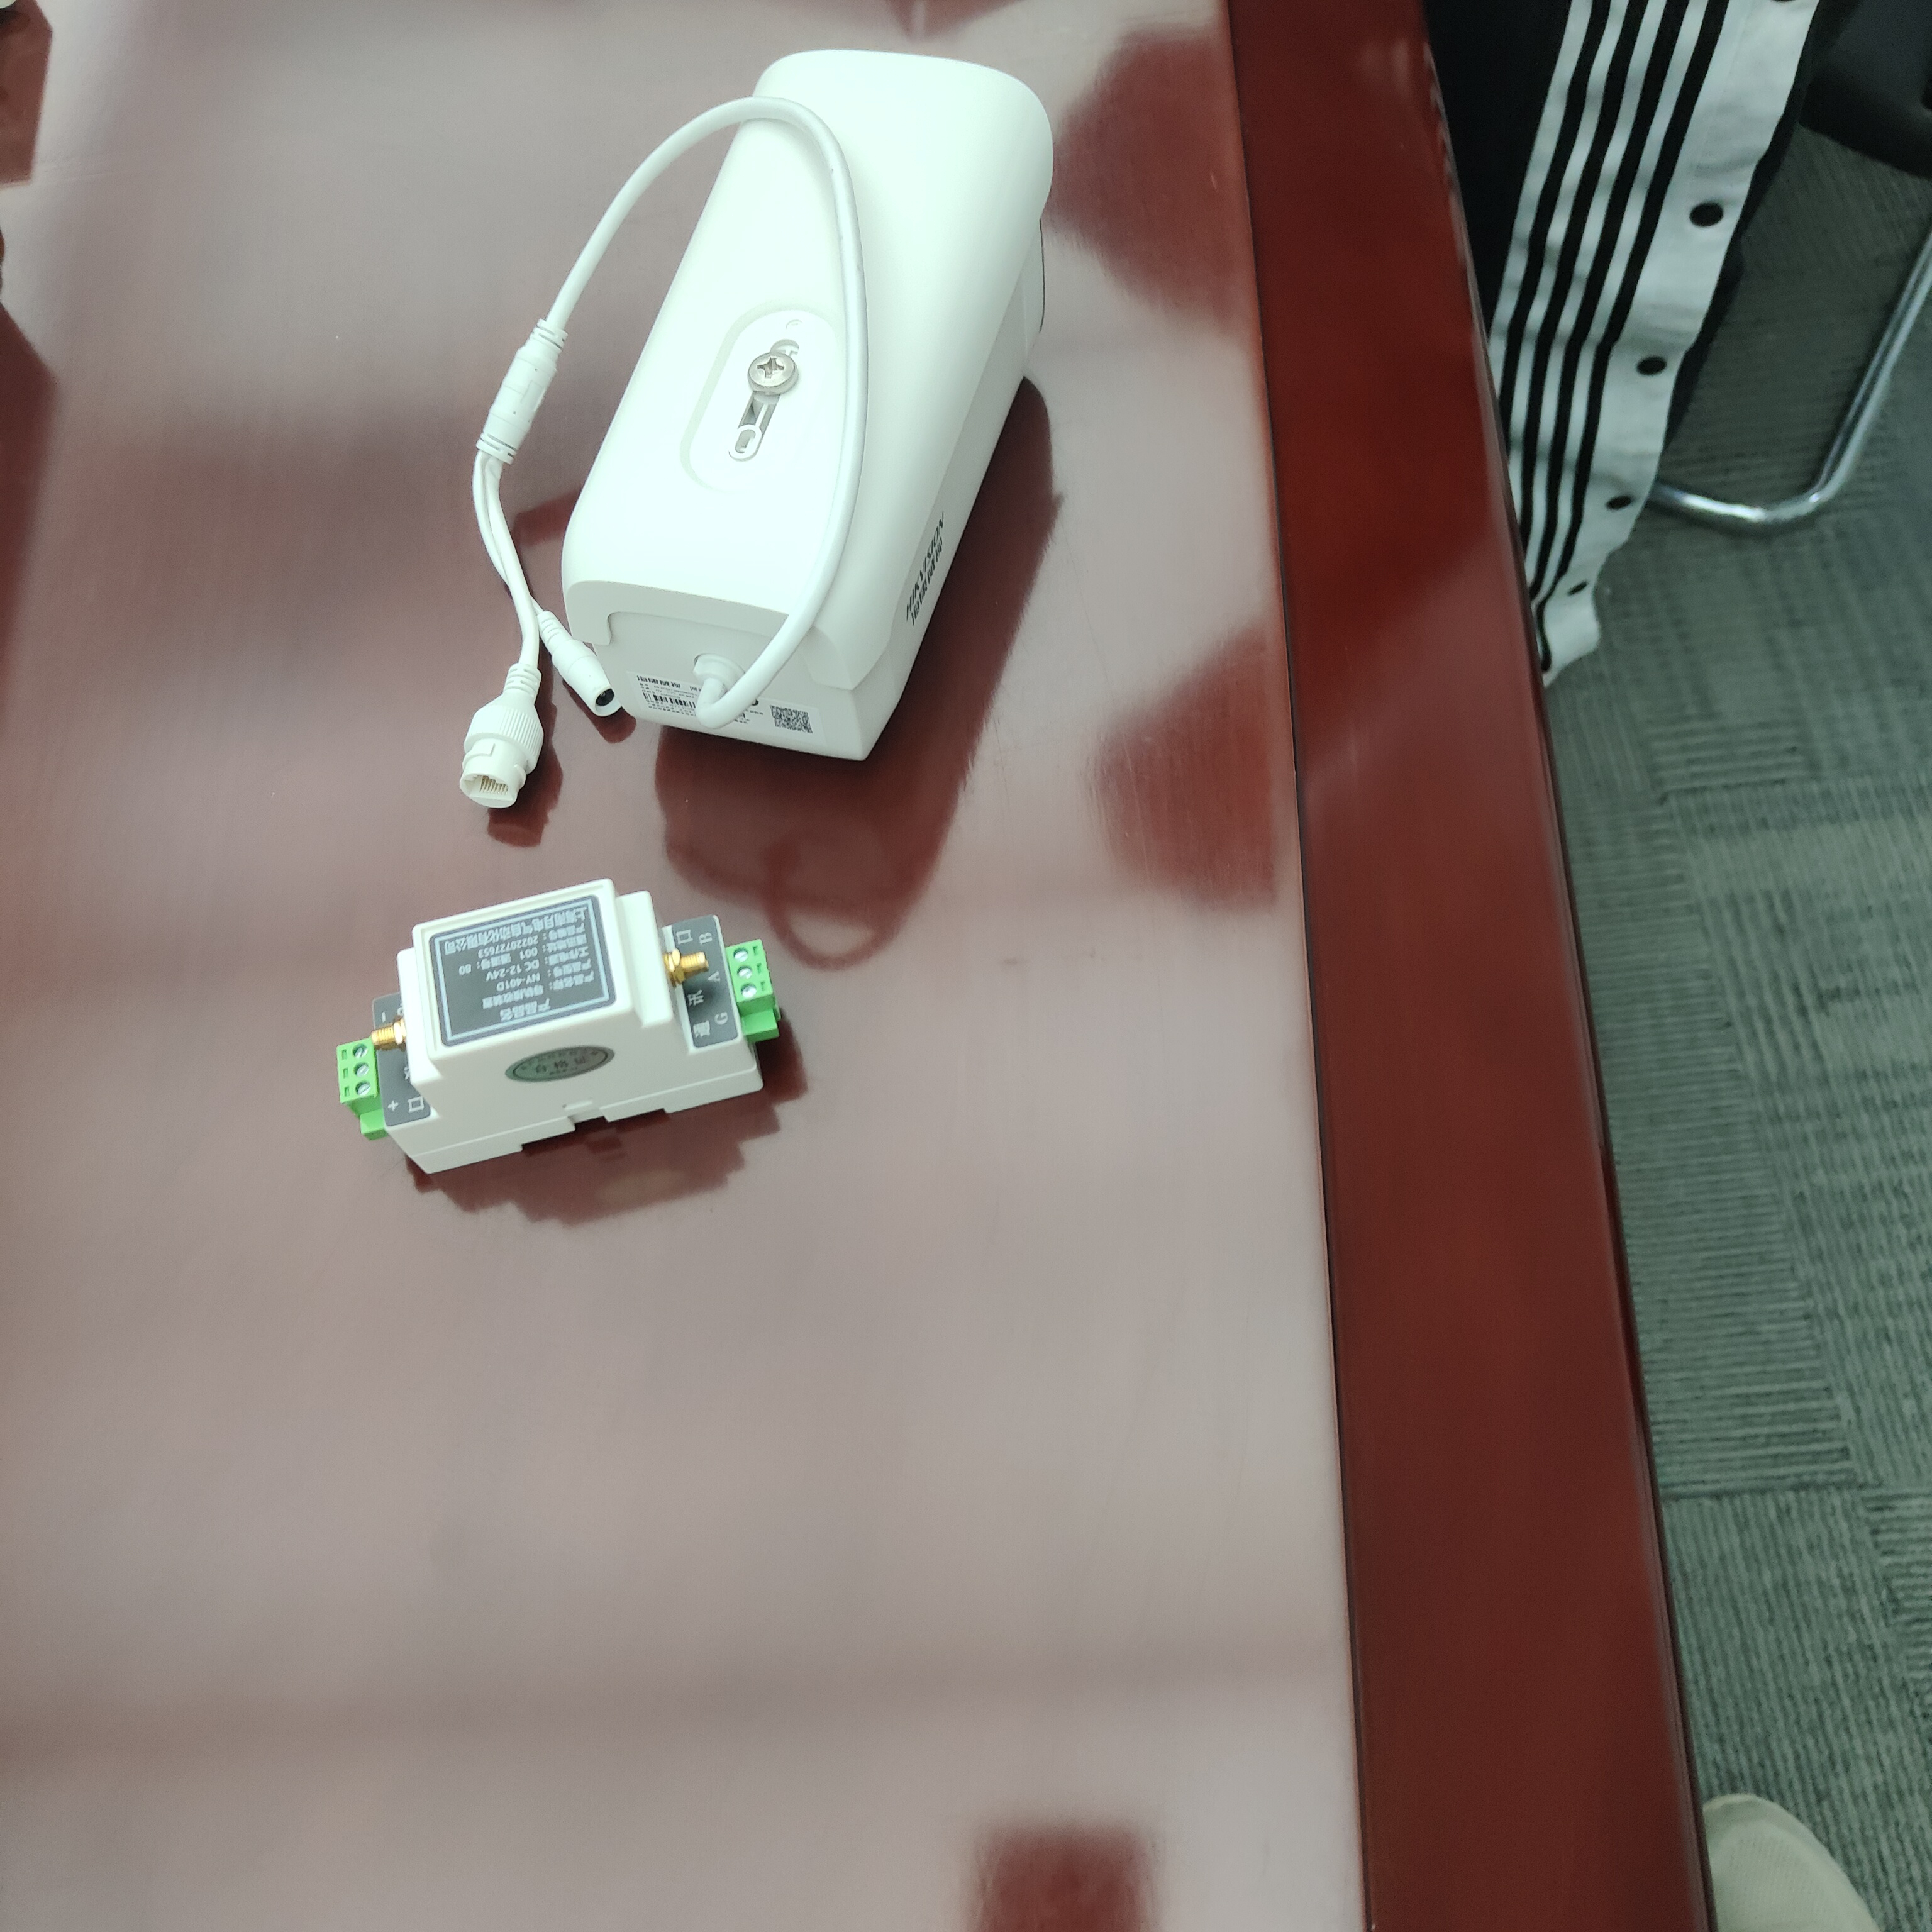dgjs: (290, 890, 830, 1194)
hkws: (501, 60, 1086, 794)
